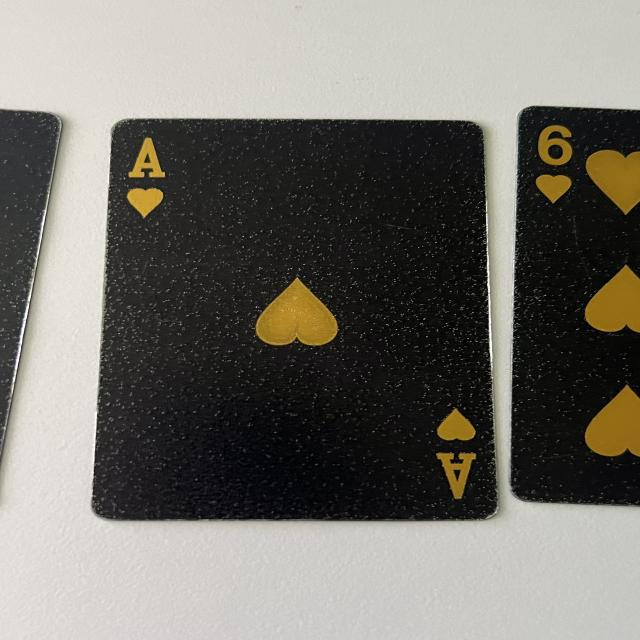6H: (526, 112, 582, 207)
AH: (424, 403, 484, 511), (120, 130, 172, 223)
